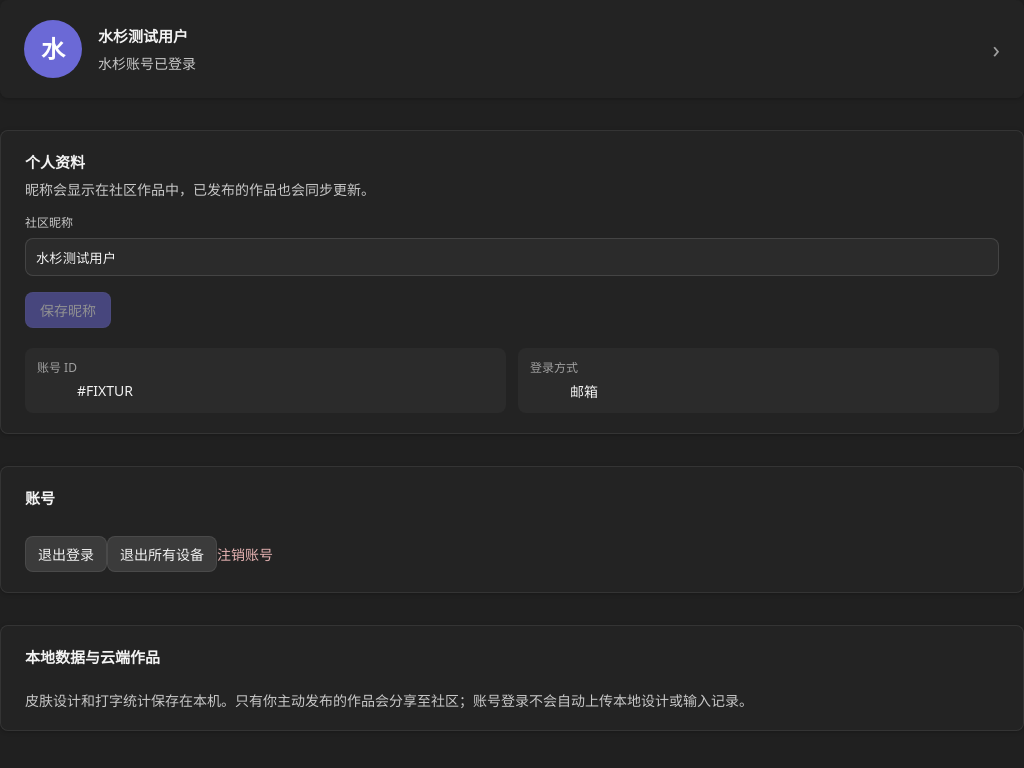
Scenario: Harmony 2-in-1 uses desktop account controls even though its platform is Harmony
expect the heading "个人资料" is shown: met, box [25,152,85,172]
expect the heading "账号" is shown: met, box [25,488,55,508]
Click the button with aria-label "编辑个人资料". click: click(53, 49)
box: [0,0,1023,98]
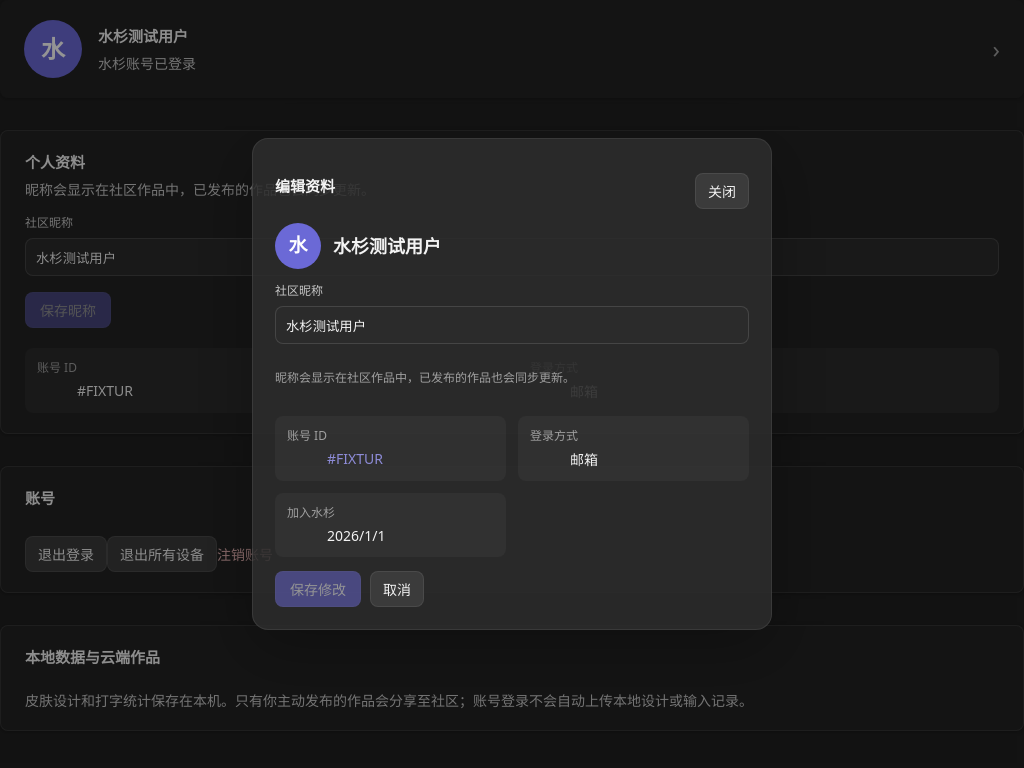
expect the dialog named "编辑个人资料" is shown: met, box [252,138,772,630]
